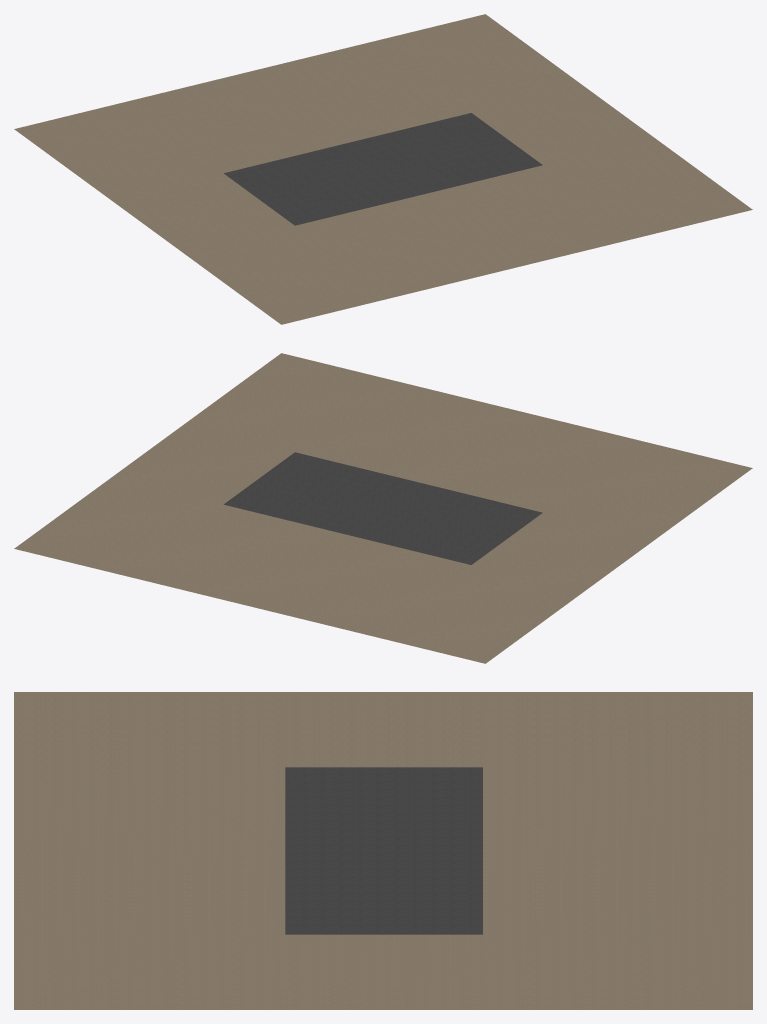
File: Ground.FBX
3 views of the same model, one above another, from view 1: azimuth 30°, elevation 25°; view 2: azimuth 150°, elevation 25°; view 3: azimuth 270°, elevation 25° (orthographic). The views are drawn at different scales.
Parts seen in each view (by area): view 1: Ground; view 2: Ground; view 3: Ground.
Boxes of the visible parts, x1,y1,x2,y2 form: Ground: (14, 14, 752, 324); Ground: (14, 353, 752, 663); Ground: (14, 692, 752, 1009).
Bounding box in the file's own units: 69542 × 0.00299 × 68312.
